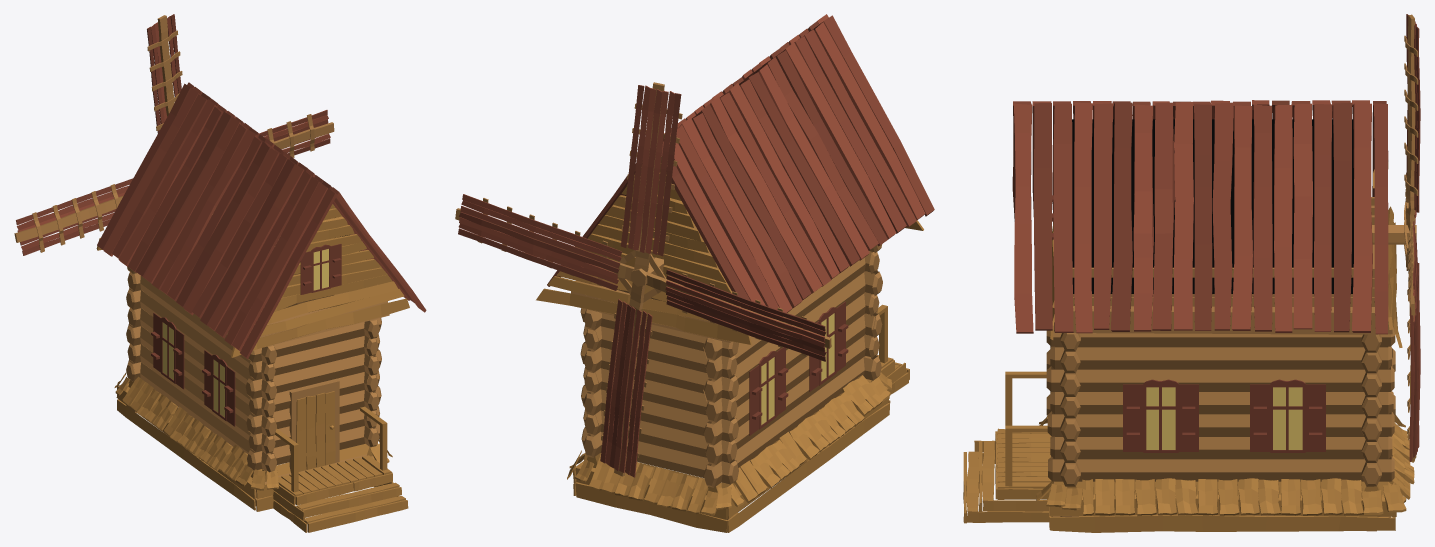
Rendered from Windmühle.fbx.
The picture shows the model from 3 angles, left to right: view 1: azimuth 30°, elevation 25°; view 2: azimuth 150°, elevation 25°; view 3: azimuth 270°, elevation 25°; orthographic projection. The views are drawn at different scales.
Parts seen in each view (by area): view 1: Windmühle, Windrad; view 2: Windmühle, Windrad; view 3: Windmühle, Windrad.
Part boxes in pixels (x1,y1,x2,y2): Windmühle: (96, 82, 426, 532); Windrad: (14, 14, 334, 255); Windmühle: (536, 14, 934, 532); Windrad: (455, 82, 831, 477); Windmühle: (963, 100, 1414, 532); Windrad: (1372, 14, 1420, 461).
Size of the model in its own units: 14.27 by 16.14 by 14.27.
